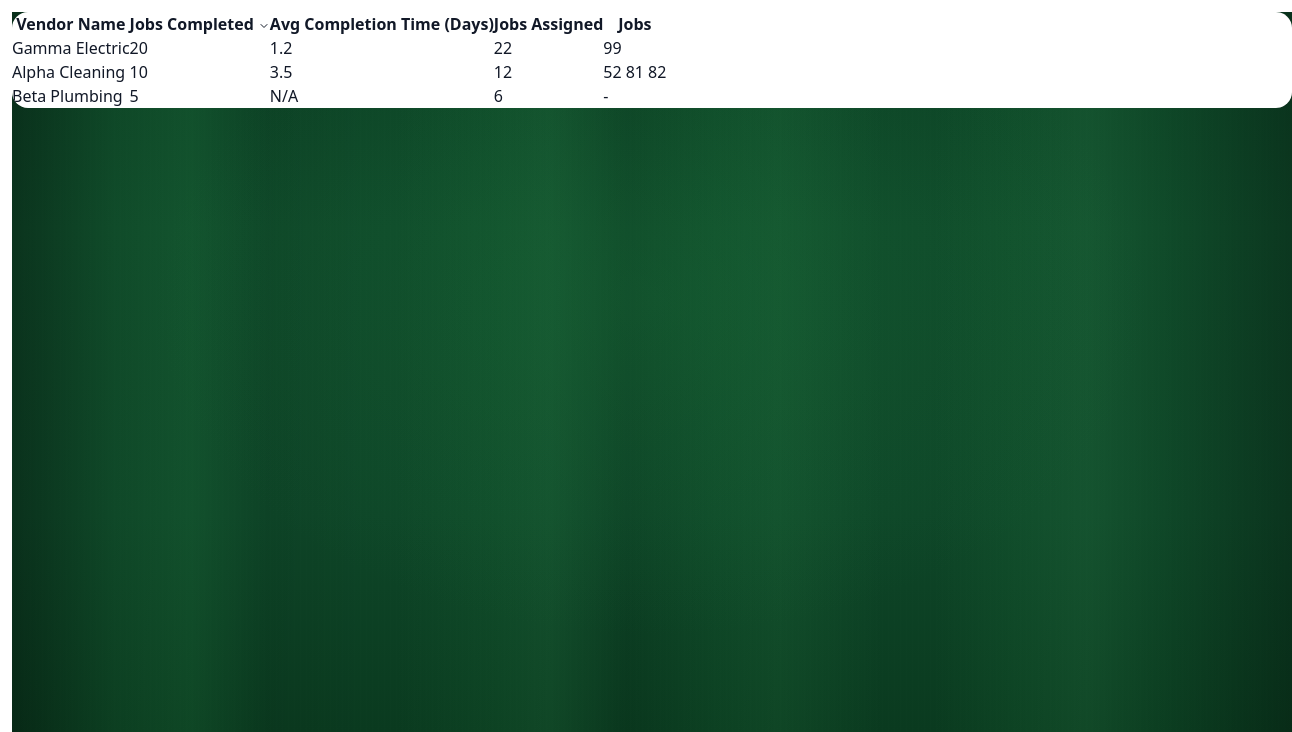
Scenario: VendorTable › clicking Jobs Completed header twice toggles sort direction
Expected: the row "Gamma Electric 20 1.2 22 99" is shown, [12,36,666,60]
Click the column heading "Jobs Completed": (200, 24) [130,12,270,36]
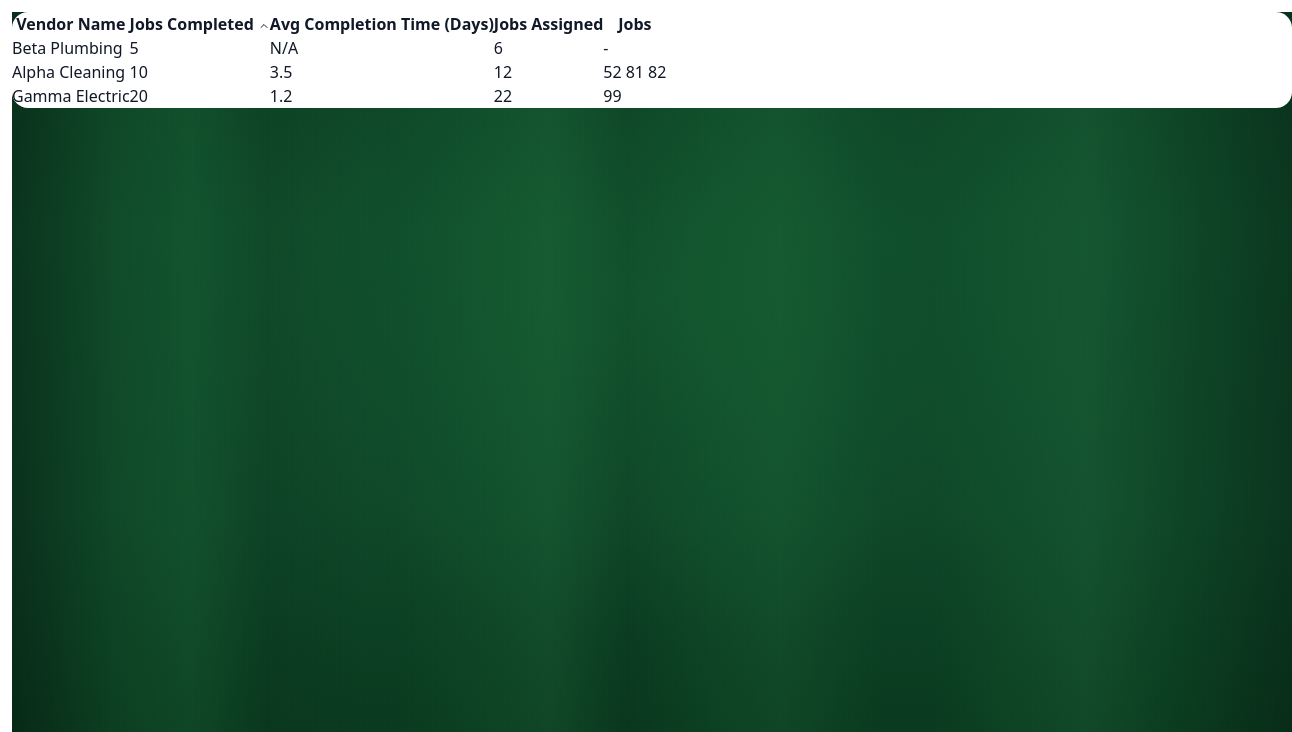
Expected: the row "Beta Plumbing 5 N/A 6 -" is shown, [12,36,666,60]
Click the column heading "Jobs Completed": (200, 24) [130,12,270,36]
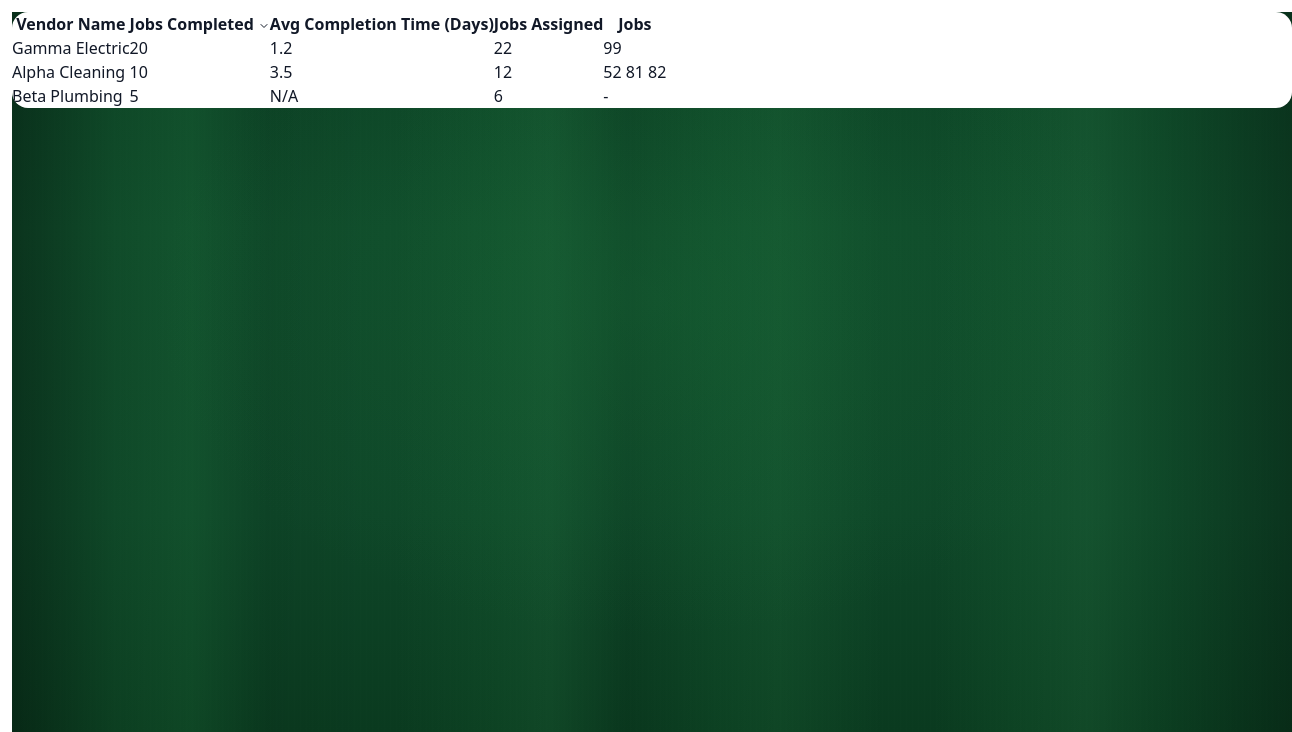
Expected: the row "Gamma Electric 20 1.2 22 99" is shown, [12,36,666,60]
